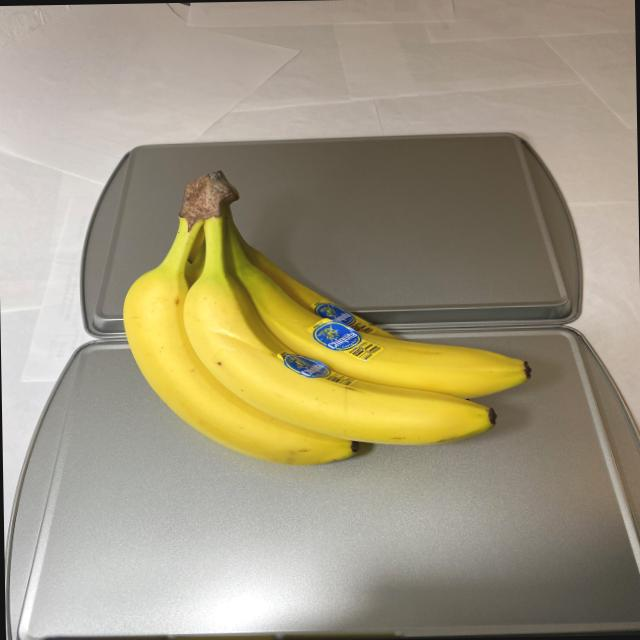banana: (116, 161, 545, 478)
